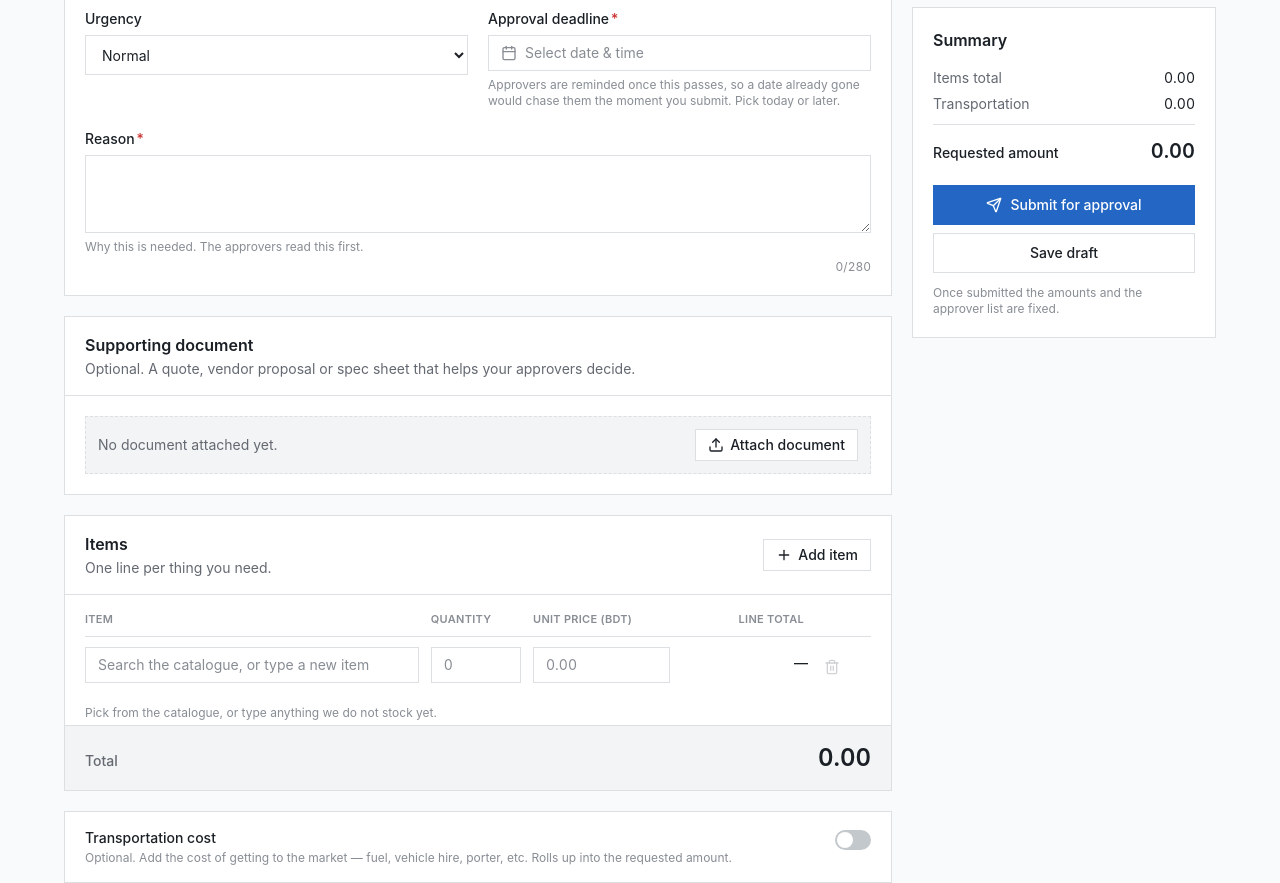
the transportation section › is collapsed until the switch is turned on
(page scrolled)
Expected: the field labelled "Amount (BDT)" is not shown
Click the switch labelled "Transportation cost" at {"x": 478, "y": 846}, box [85,828,871,866]
(page scrolled)
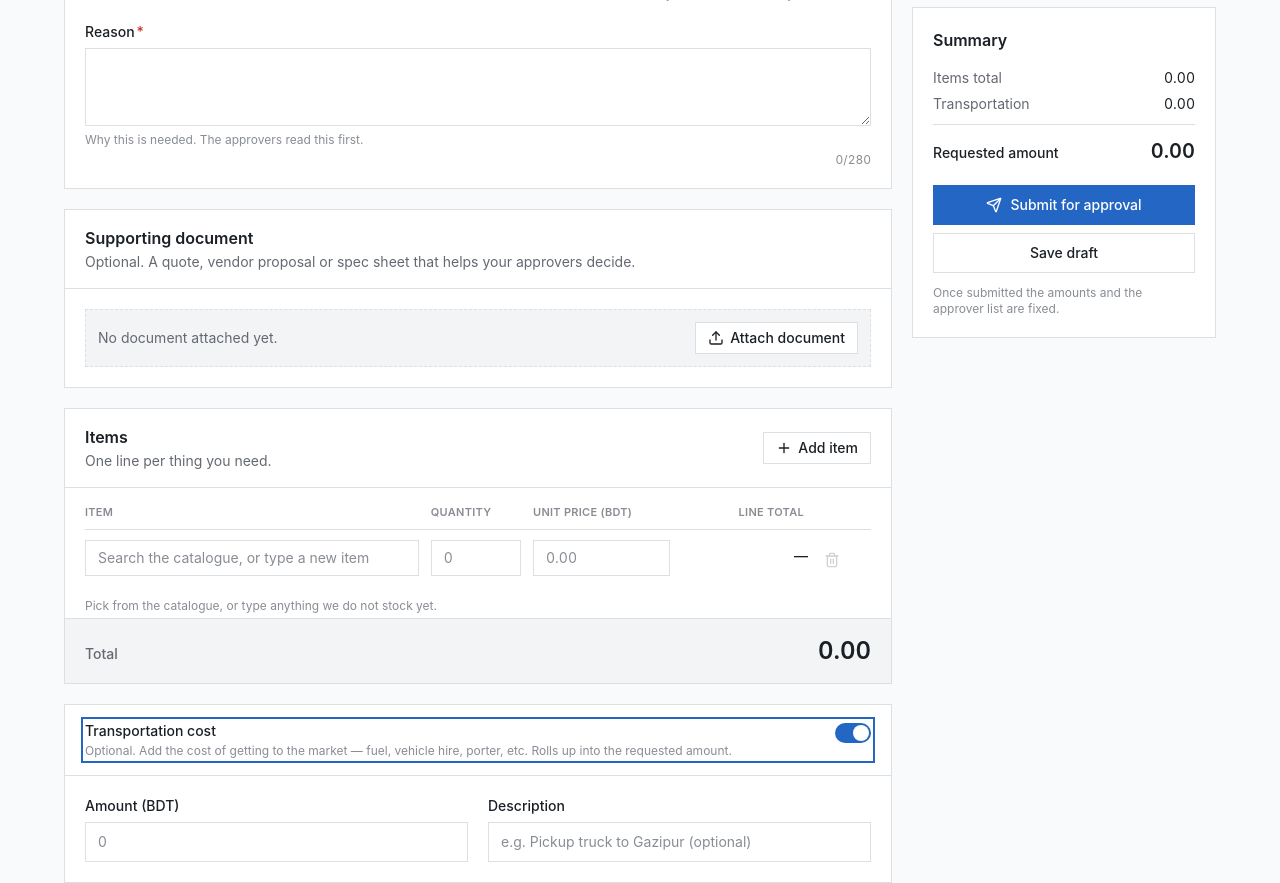
Expected: the number field labelled "Amount (BDT)" is shown, [85,822,468,862]
Expected: the field labelled "Description" is shown, [488,822,871,862]
